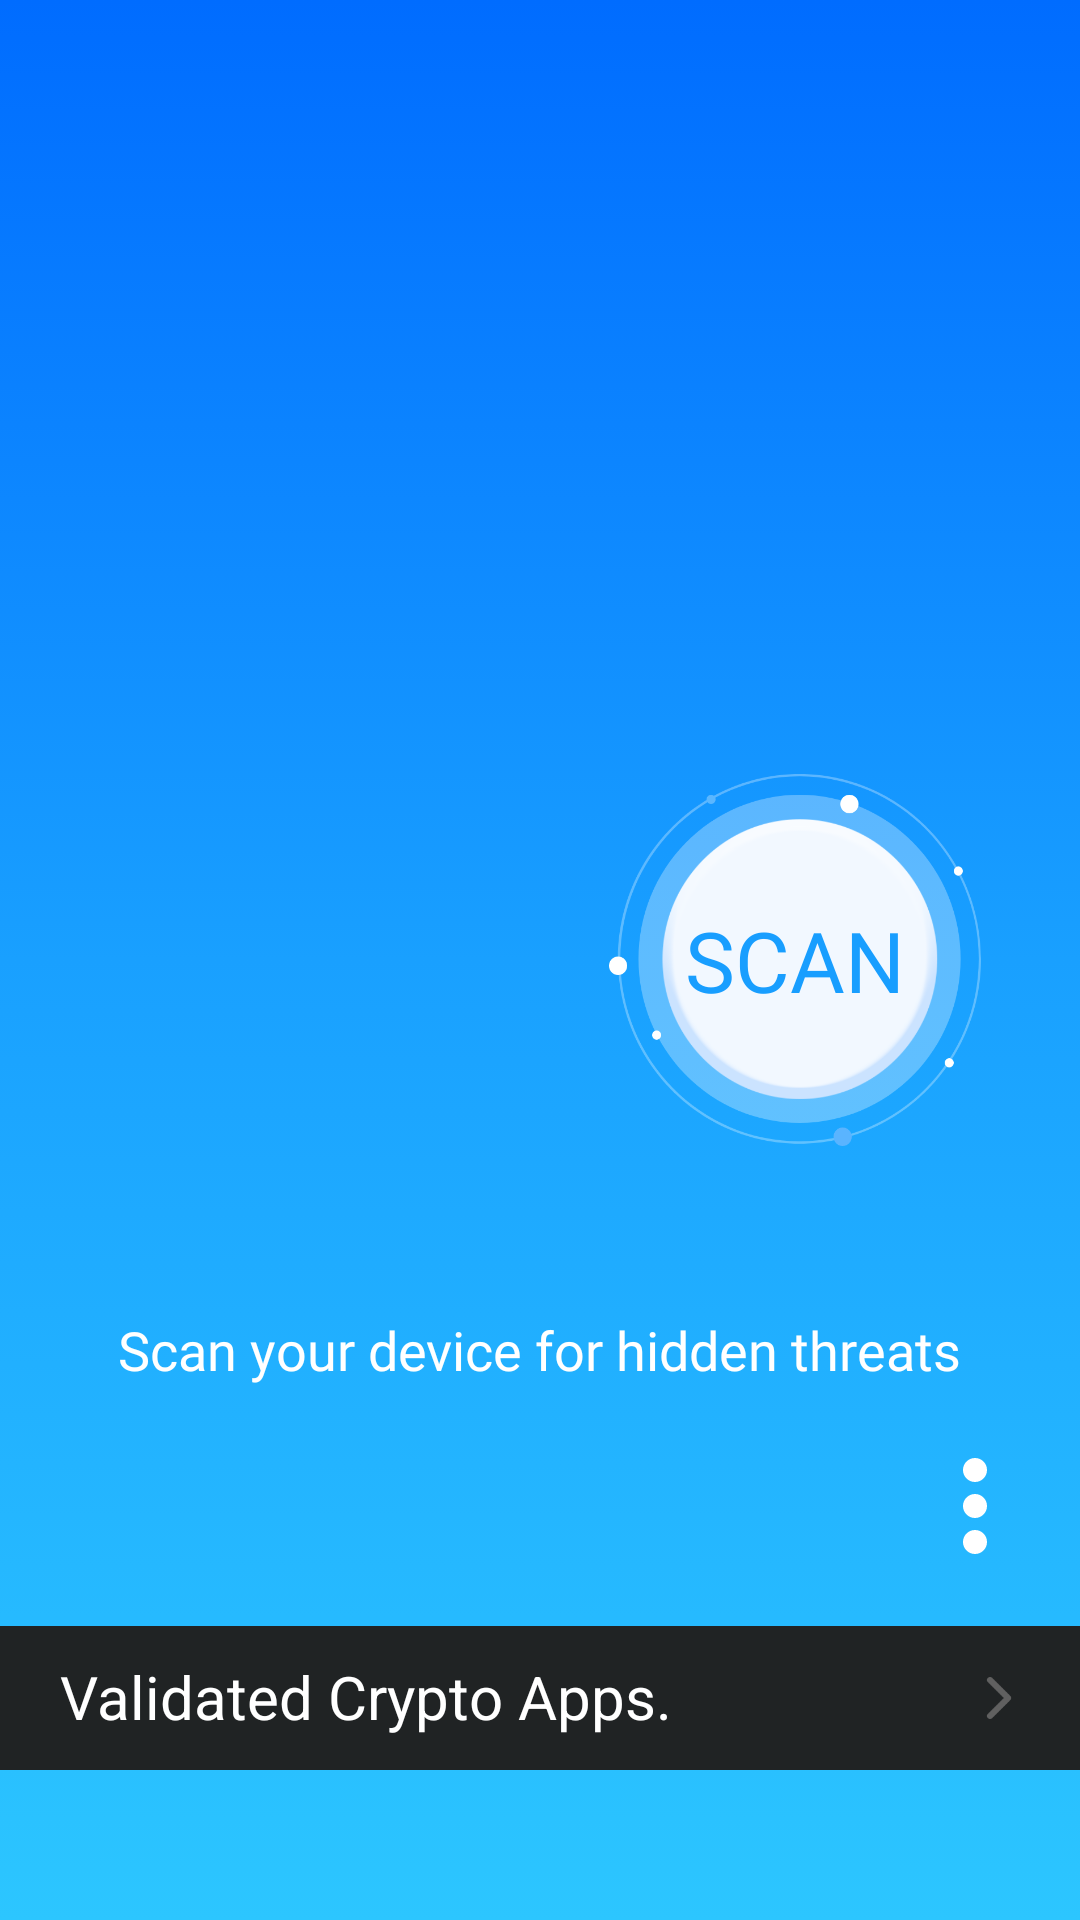

Where icons sit on this 1080*1920 app screen, as (x1, y1, x2, y2):
arrow right: (987, 1677, 1011, 1719)
more: (963, 1458, 987, 1554)
